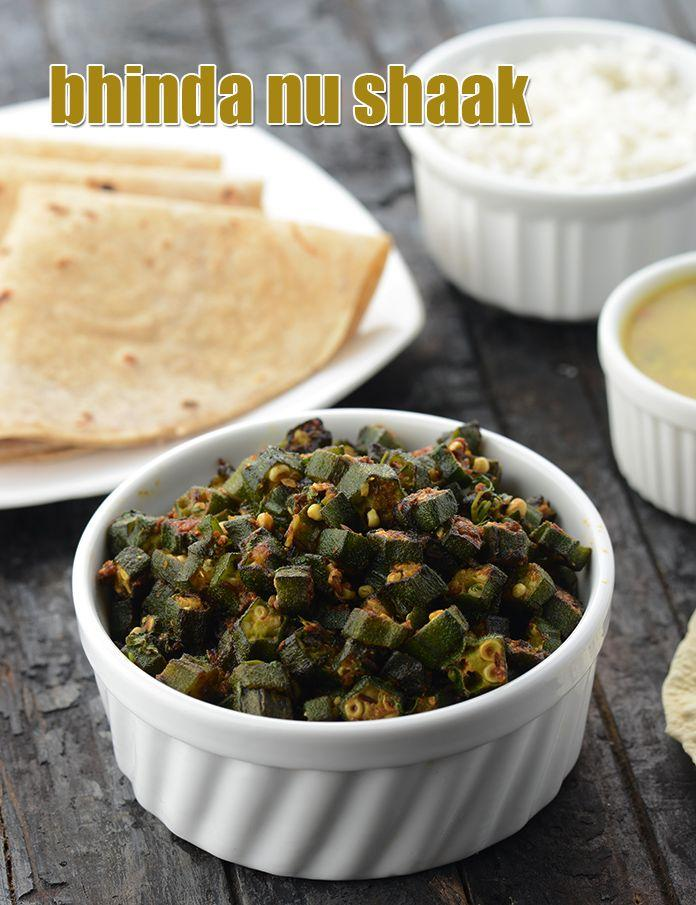bhindi: (138, 458, 550, 683)
